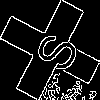S: (25, 25, 82, 76)
